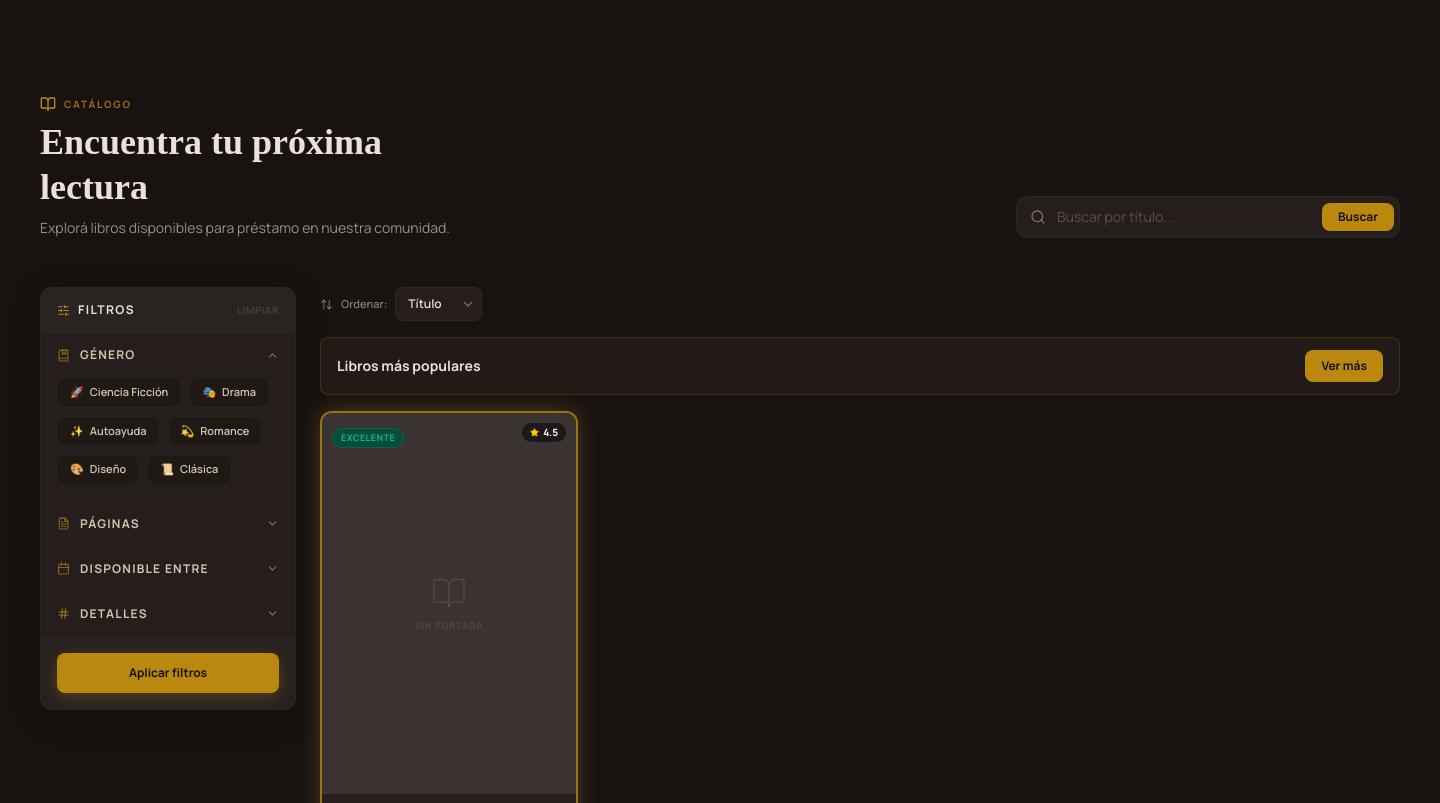
Test case: Home › al hacer click en Ver populares vuelve al ranking y oculta el paginado
Click the button "Ver más" at [1344, 366], box x1=1305 y1=350 x2=1383 y2=382
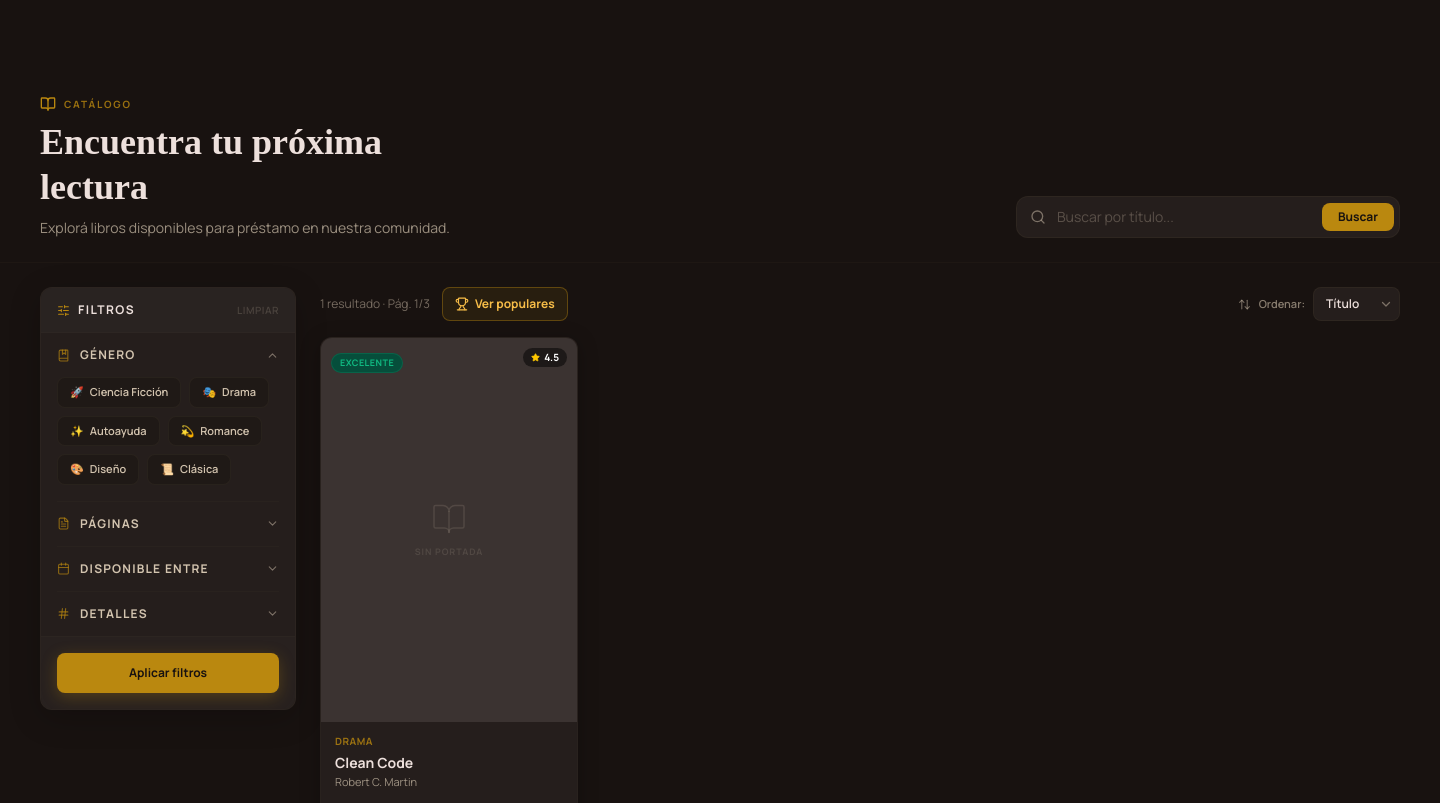
Click the button "Ver populares" at [505, 304], box x1=442 y1=287 x2=568 y2=321
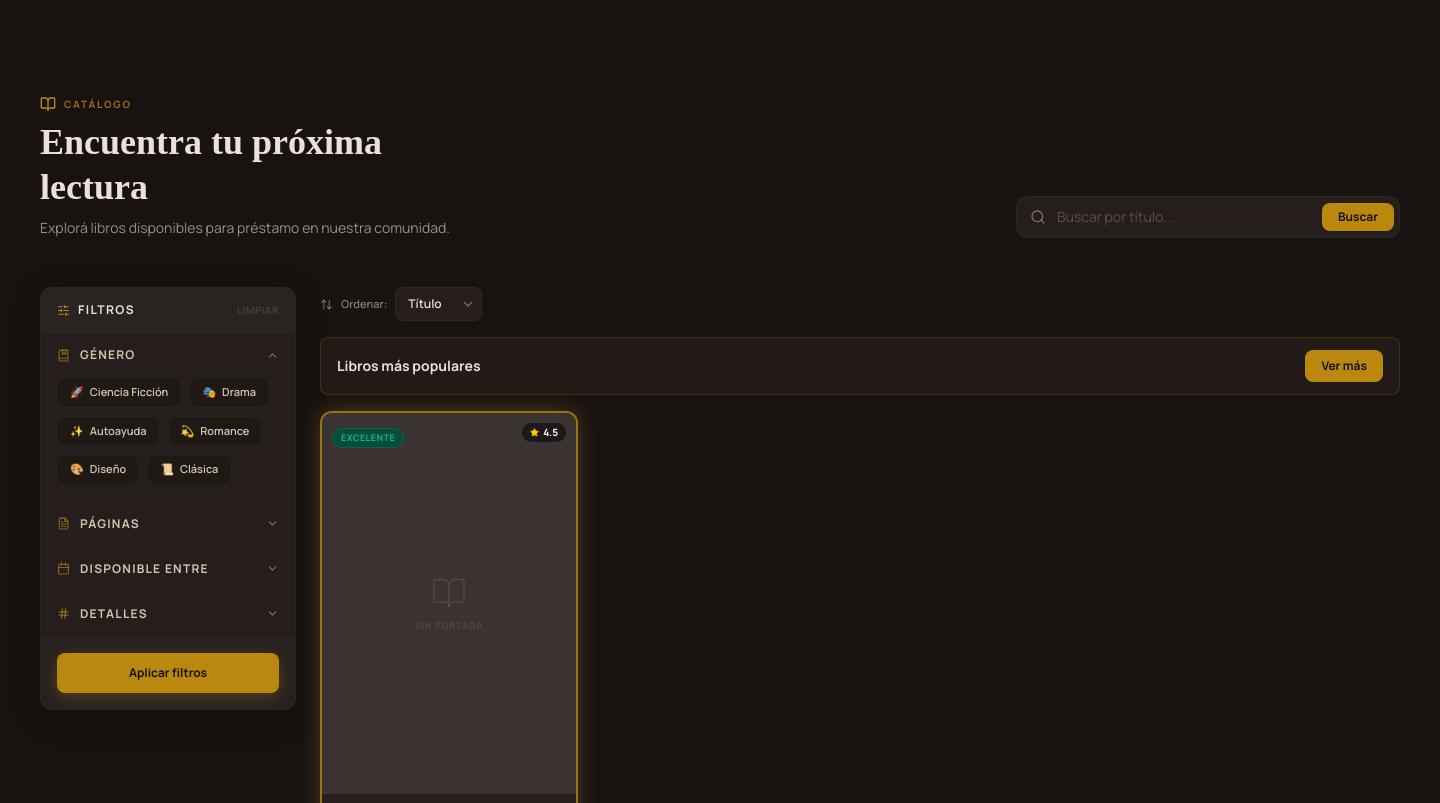
Result: the heading "Libros más populares" is shown at x1=337 y1=356 x2=480 y2=376
Result: the button "Ver más" is shown at x1=1305 y1=350 x2=1383 y2=382
Result: the button "Ver populares" is gone
